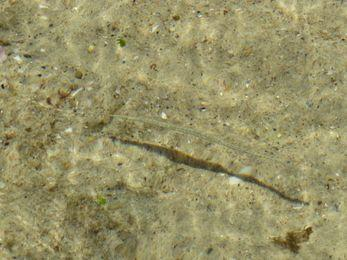Fistularia commersonii: (51, 78, 347, 202)
